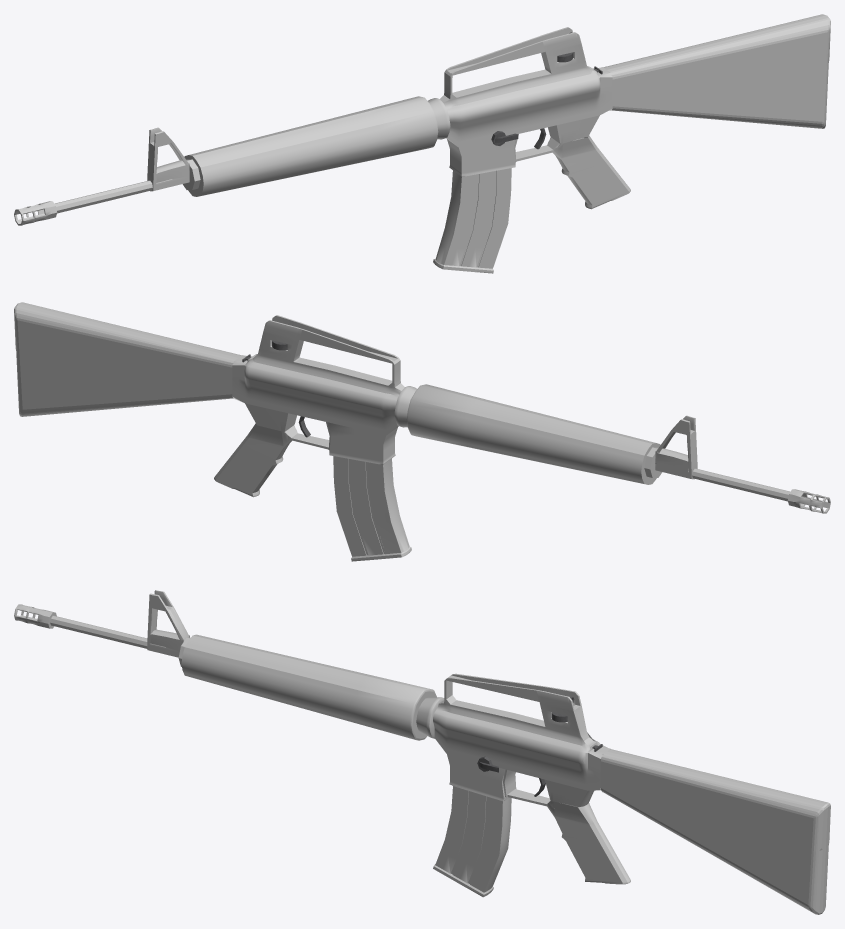
3 renders of one model, top to bottom at view 1: azimuth 30°, elevation 25°; view 2: azimuth 150°, elevation 25°; view 3: azimuth 330°, elevation 25°, orthographic.
Parts seen in each view (by area): view 1: M16_Apoio, M16_Sup, M16_Corpo_S, M16_Mag, M16_Corpo_I, M16_Mao, M16_Cano, M16_Mira_D, M16_Detalhes, M16_Junc_P; view 2: M16_Apoio, M16_Corpo_S, M16_Sup, M16_Mag, M16_Corpo_I, M16_Mao, M16_Cano, M16_Mira_D, M16_Junc_P; view 3: M16_Apoio, M16_Corpo_S, M16_Sup, M16_Mag, M16_Mao, M16_Corpo_I, M16_Cano, M16_Mira_D, M16_Junc_P.
Boxes of the visible parts, bbox=[...] form: M16_Apoio: bbox=[603, 14, 830, 128]; M16_Sup: bbox=[184, 96, 438, 196]; M16_Corpo_S: bbox=[440, 27, 612, 147]; M16_Mag: bbox=[433, 168, 511, 273]; M16_Corpo_I: bbox=[447, 115, 599, 176]; M16_Mao: bbox=[555, 135, 630, 209]; M16_Cano: bbox=[14, 180, 152, 225]; M16_Mira_D: bbox=[147, 127, 189, 191]; M16_Detalhes: bbox=[491, 32, 602, 149]; M16_Junc_P: bbox=[428, 98, 450, 139]; M16_Apoio: bbox=[14, 302, 241, 416]; M16_Corpo_S: bbox=[232, 315, 404, 435]; M16_Sup: bbox=[406, 384, 660, 484]; M16_Mag: bbox=[333, 456, 411, 561]; M16_Corpo_I: bbox=[245, 403, 397, 464]; M16_Mao: bbox=[214, 423, 289, 497]; M16_Cano: bbox=[692, 468, 830, 513]; M16_Mira_D: bbox=[655, 415, 697, 479]; M16_Junc_P: bbox=[394, 386, 416, 427]; M16_Apoio: bbox=[600, 749, 830, 914]; M16_Corpo_S: bbox=[433, 673, 610, 792]; M16_Sup: bbox=[181, 634, 436, 740]; M16_Mag: bbox=[433, 786, 511, 897]; M16_Mao: bbox=[553, 801, 630, 884]; M16_Corpo_I: bbox=[447, 754, 593, 817]; M16_Cano: bbox=[14, 604, 147, 648]; M16_Mira_D: bbox=[147, 590, 189, 657]; M16_Junc_P: bbox=[416, 697, 444, 738].
Bounding box in the file's own units: 101 × 26.18 × 5.95.
